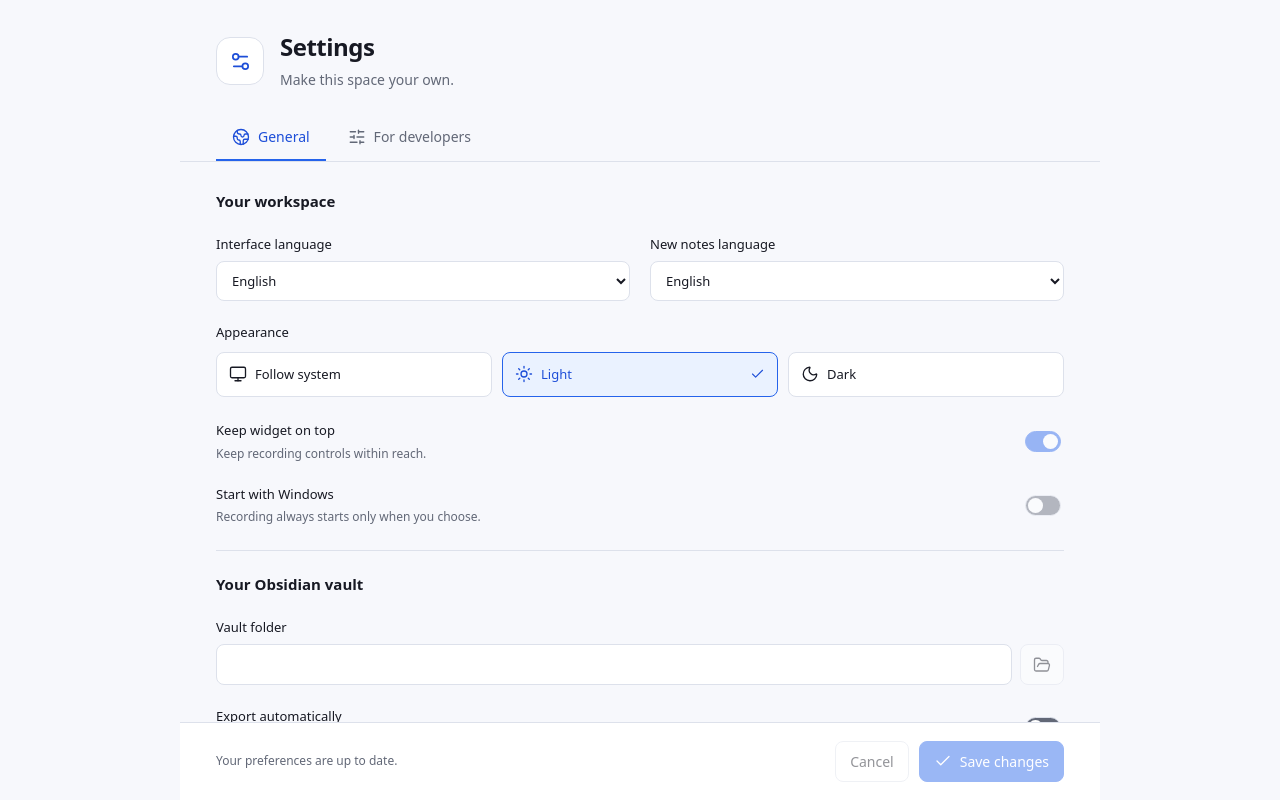
it: loads durations, rejects invalid input, cancels, and saves only the changed field
Click the tab "For developers". click: (409, 138)
box: [332,114,487,161]
(page scrolled)
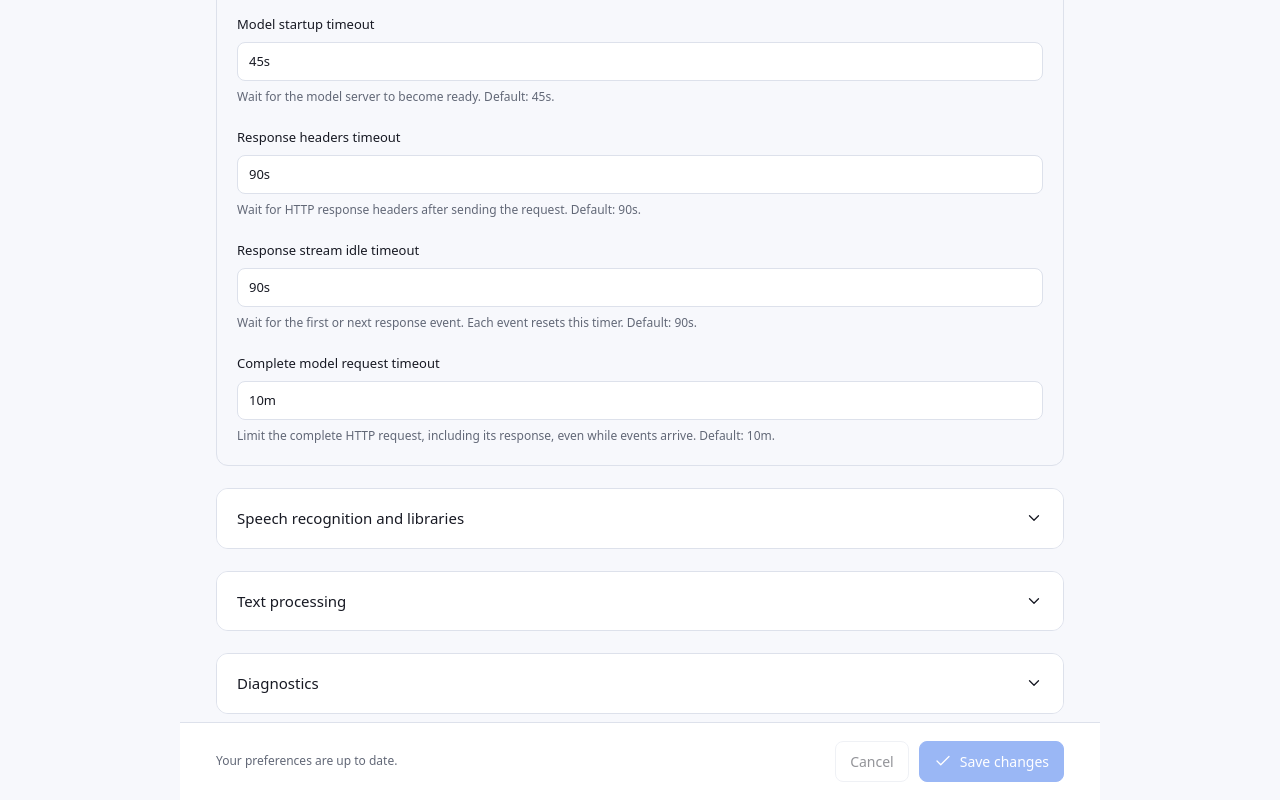
expect the field labelled "Complete model request timeout" holds "10m": met
Replace the text in the field labelled "Complete model request timeout" with "0s". click: (640, 400)
box: [237,380,1043,420]
(page scrolled)
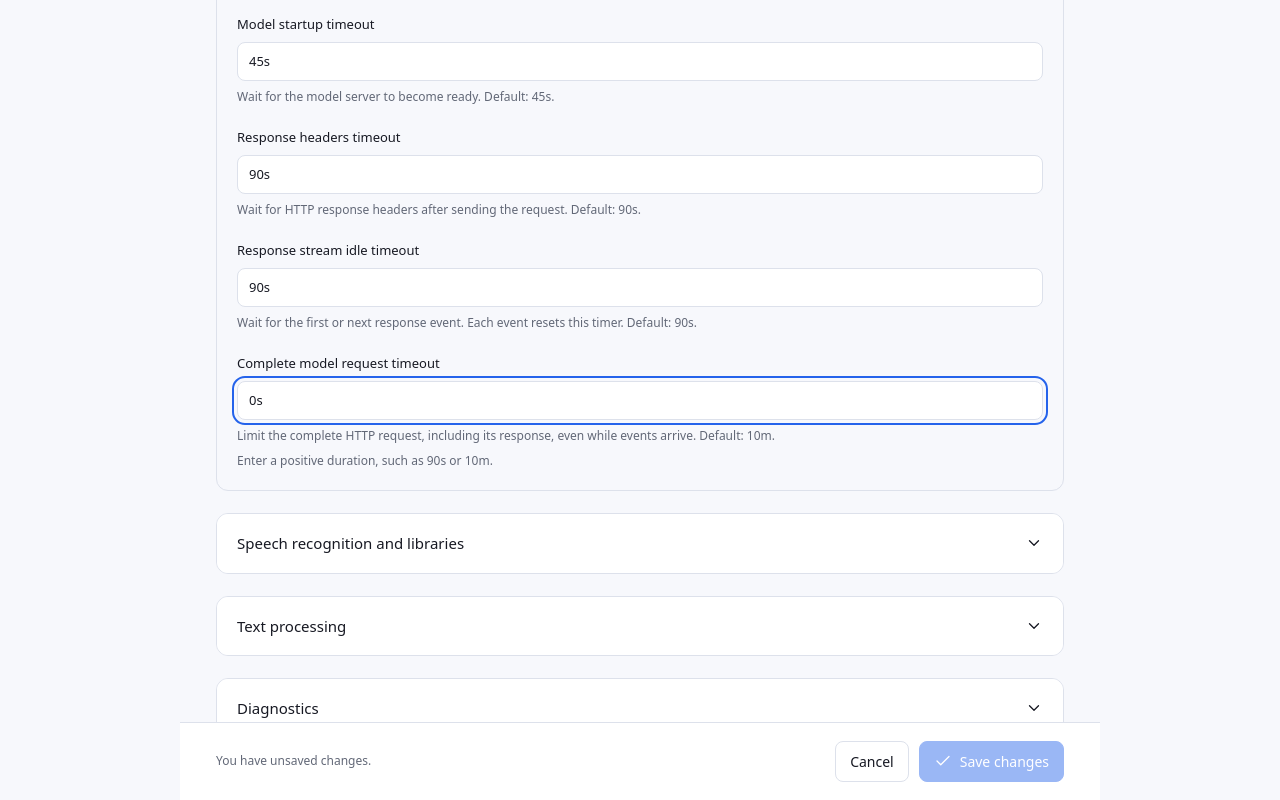
expect the button "Save changes" is disabled: met, box [919,741,1064,782]
expect the message "Enter a positive duration, such as 90s or 10m." is shown: met, box [237,452,493,469]
Click the button "Cancel". click: (872, 762)
box: [835,741,909,782]
(page scrolled)
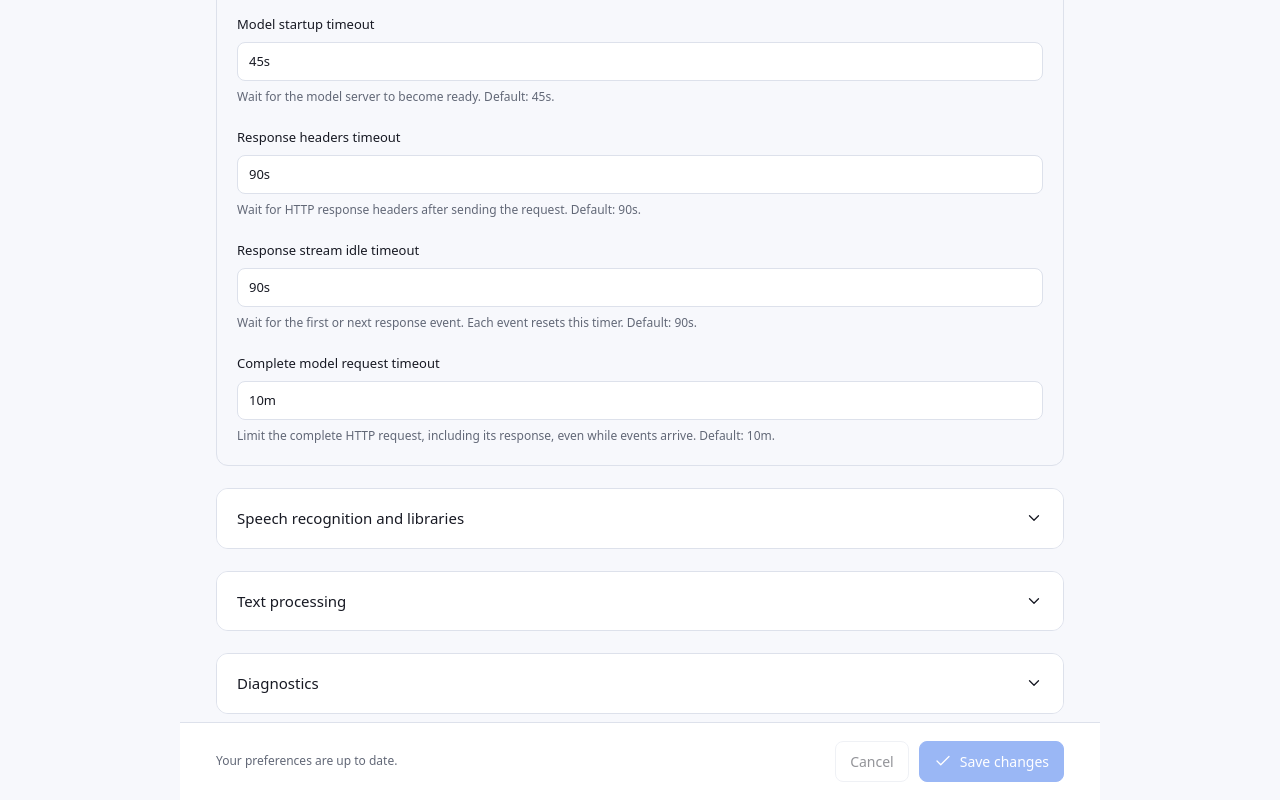
expect the field labelled "Complete model request timeout" holds "10m": met
Replace the text in the field labelled "Complete model request timeout" with "45m". click: (640, 400)
box: [237,380,1043,420]
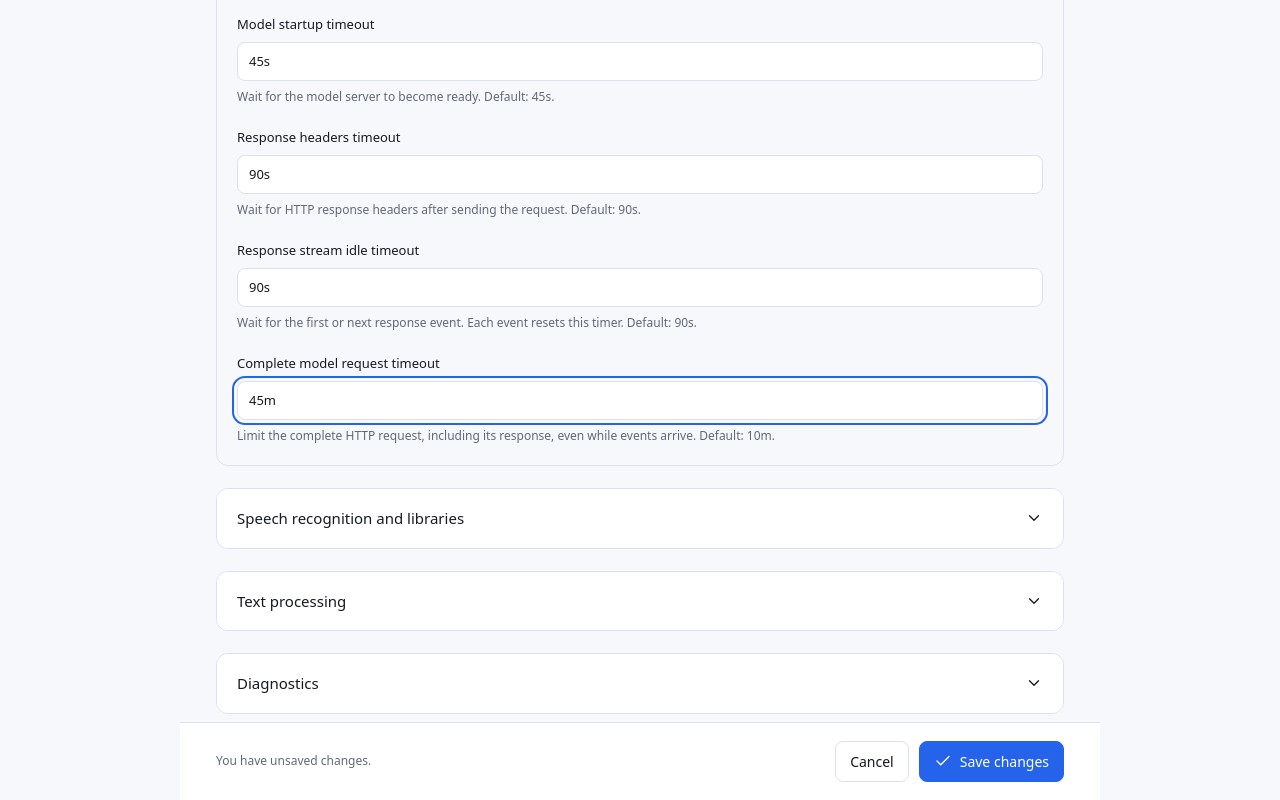
Click the button "Save changes". click: (991, 762)
box: [919,741,1064,782]
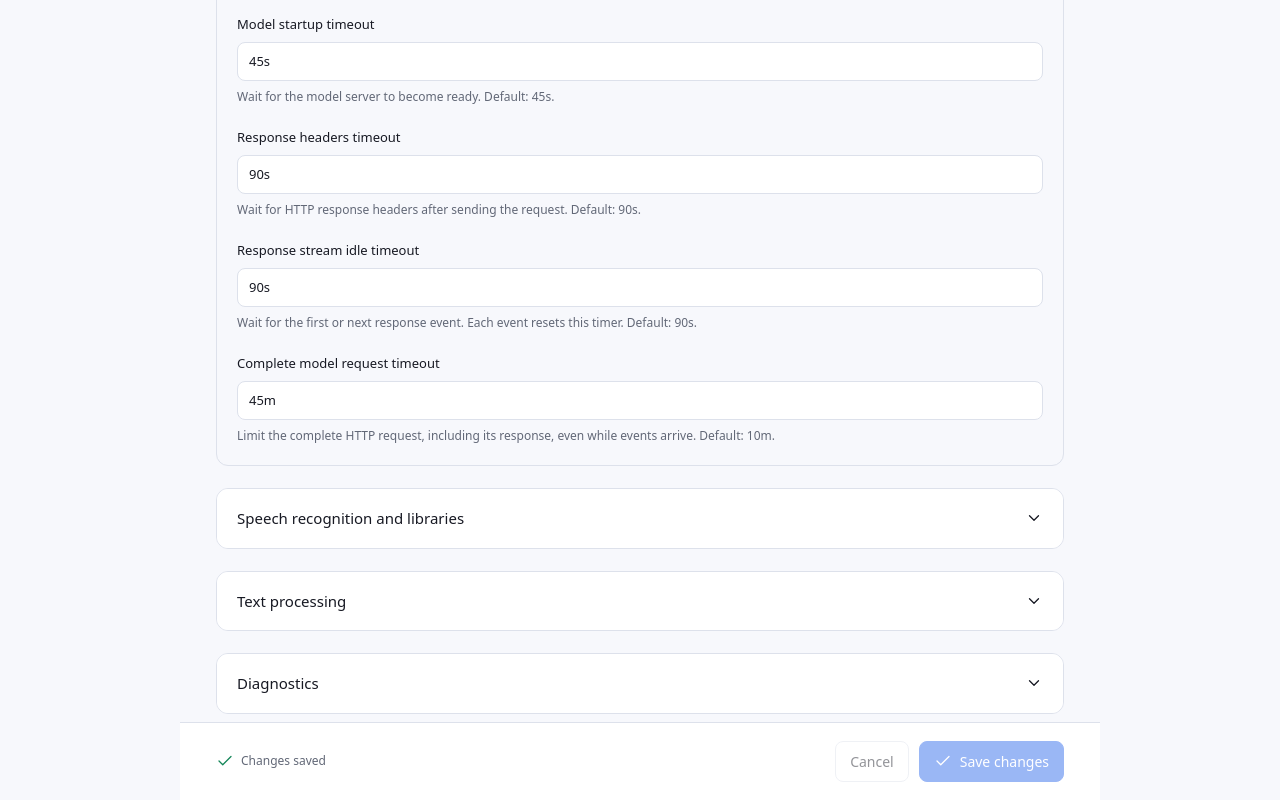
expect the text "Restart the app to apply: Complete model request timeout." is shown: met, box [216,734,1064,780]
